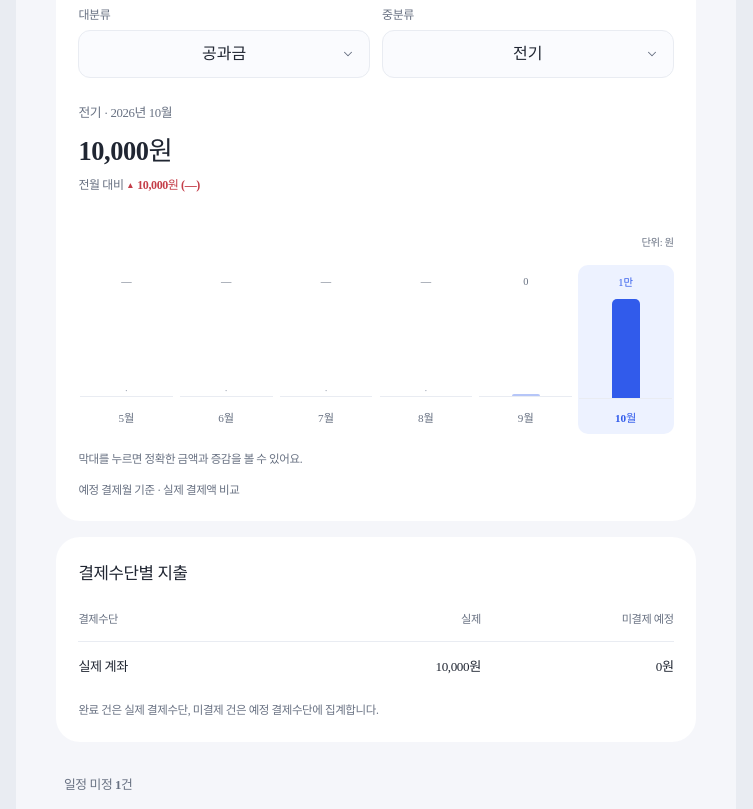
Test case: 미결제 0원과 전월 0원의 증감률을 선택한 달 기준으로 표시한다
(page scrolled)
expect the text "10,000원 (—)" is shown: met, box [137,176,200,196]
Click the button named "2026년 9월, 0원". click: {"x": 526, "y": 350}
box: [478,265,574,434]
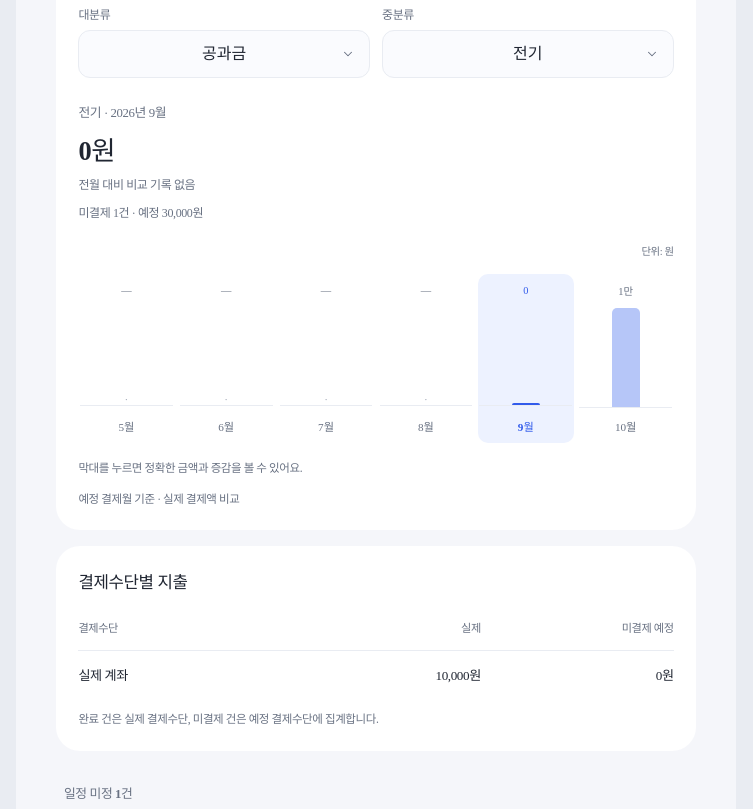
expect the text "0원" below "전기" is shown: met, box [78,136,115,166]
expect the text "미결제 1건 · 예정 30,000원" is shown: met, box [78,206,203,220]
